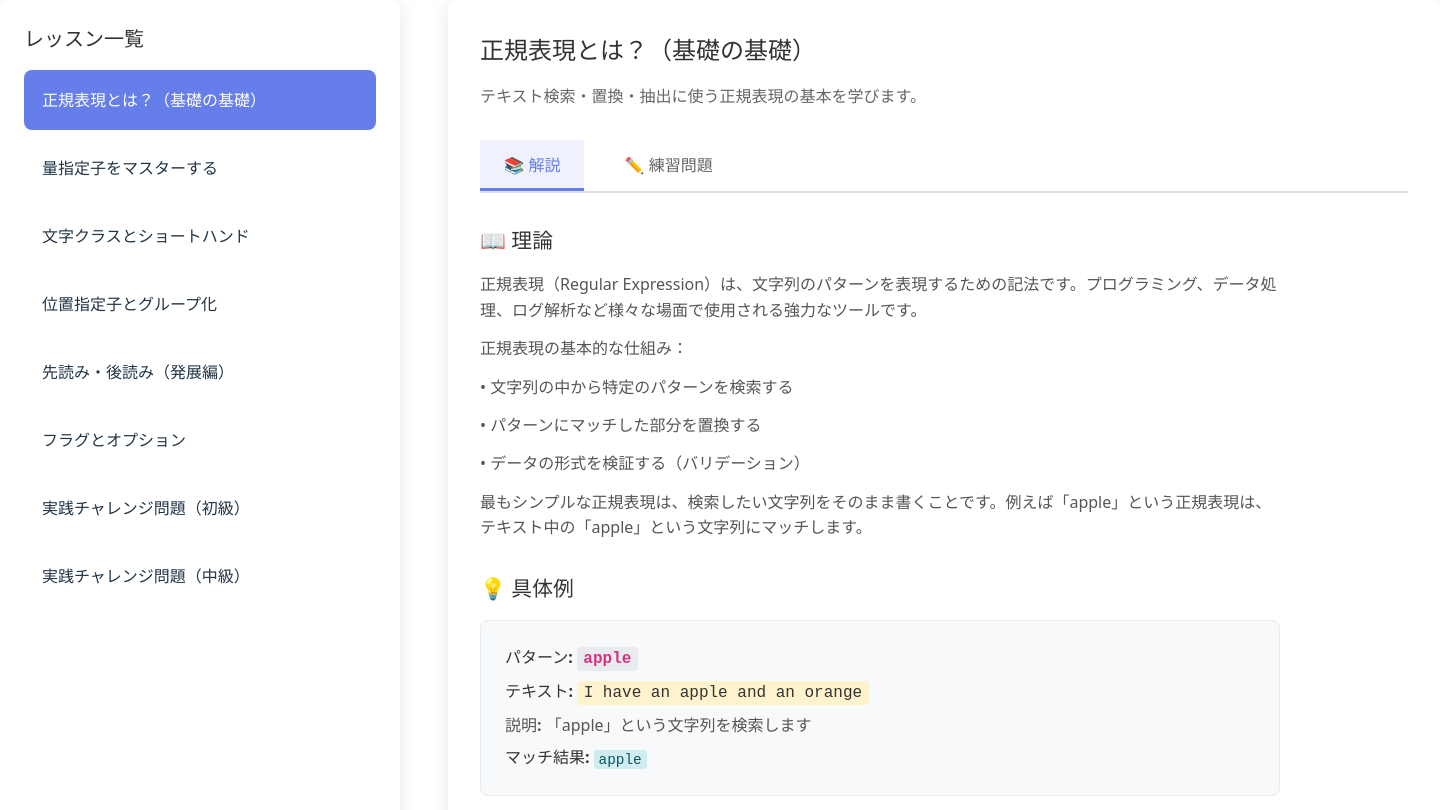
Test: LearningMode › 練習問題機能 › 正解時に正しいフィードバックが表示される
Click the button "✏️ 練習問題" at (669, 166), box [600,140,737,191]
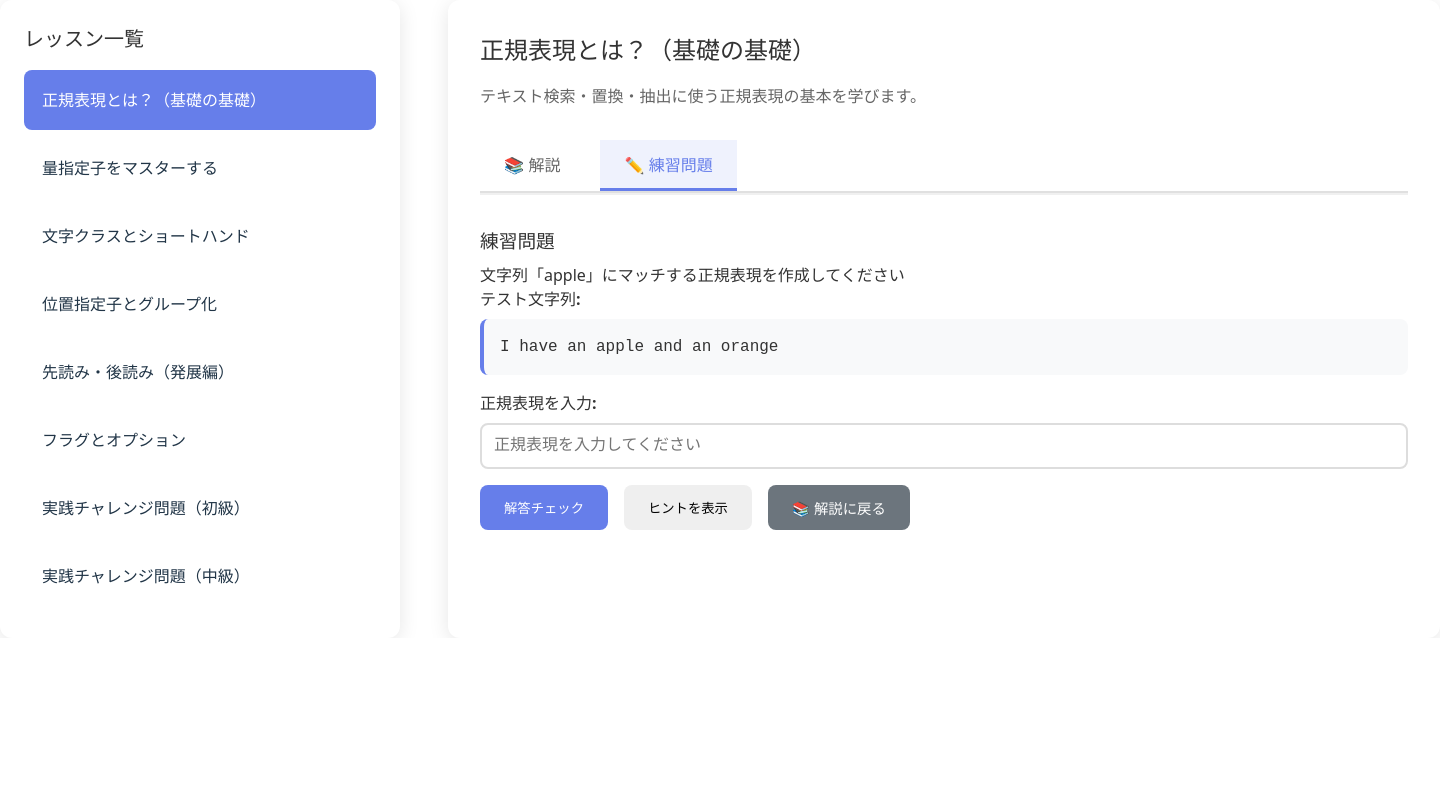
Type "apple" into the field with placeholder "正規表現を入力してください" at (944, 446), box [480,423,1408,469]
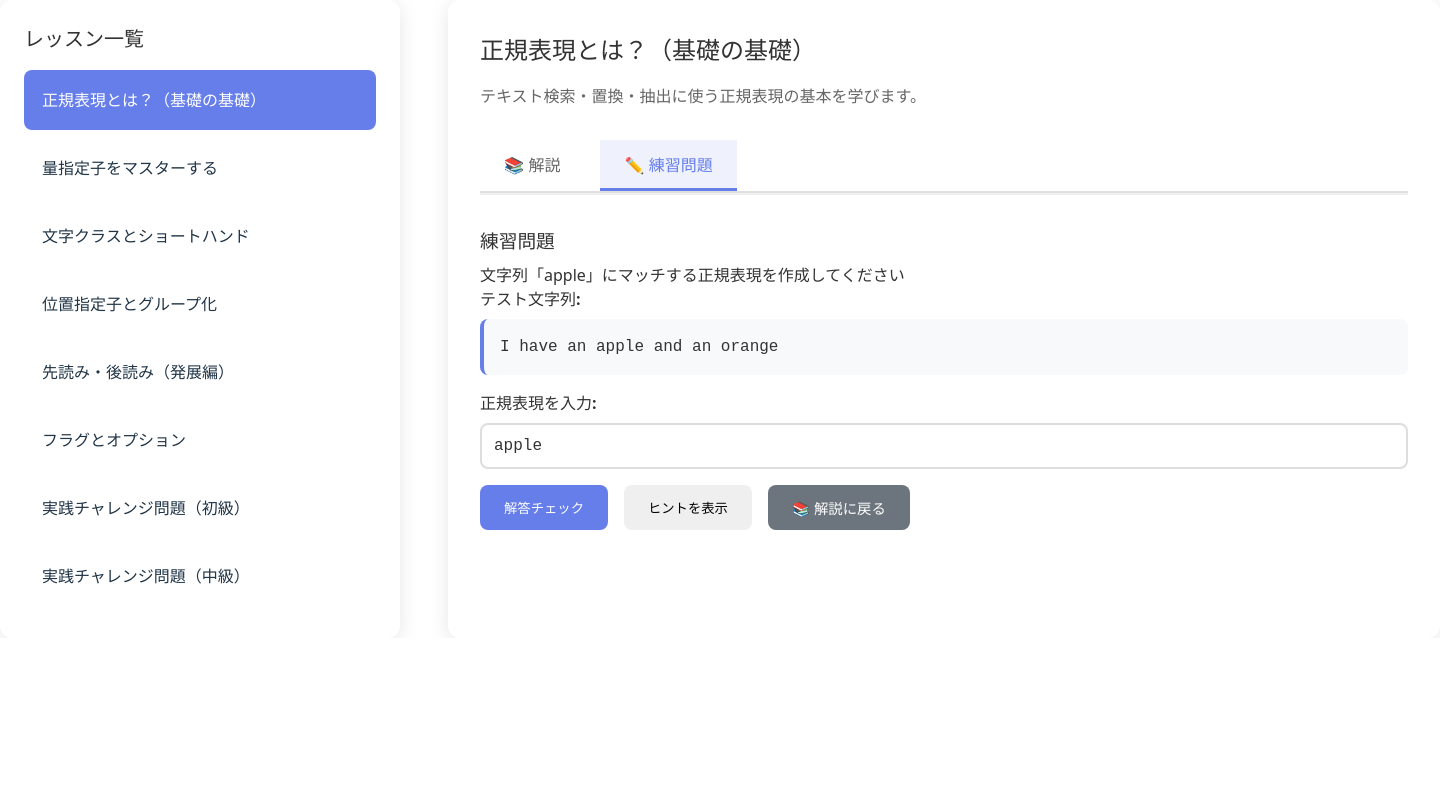
Click the button "解答チェック" at (544, 508), box [480,485,608,530]
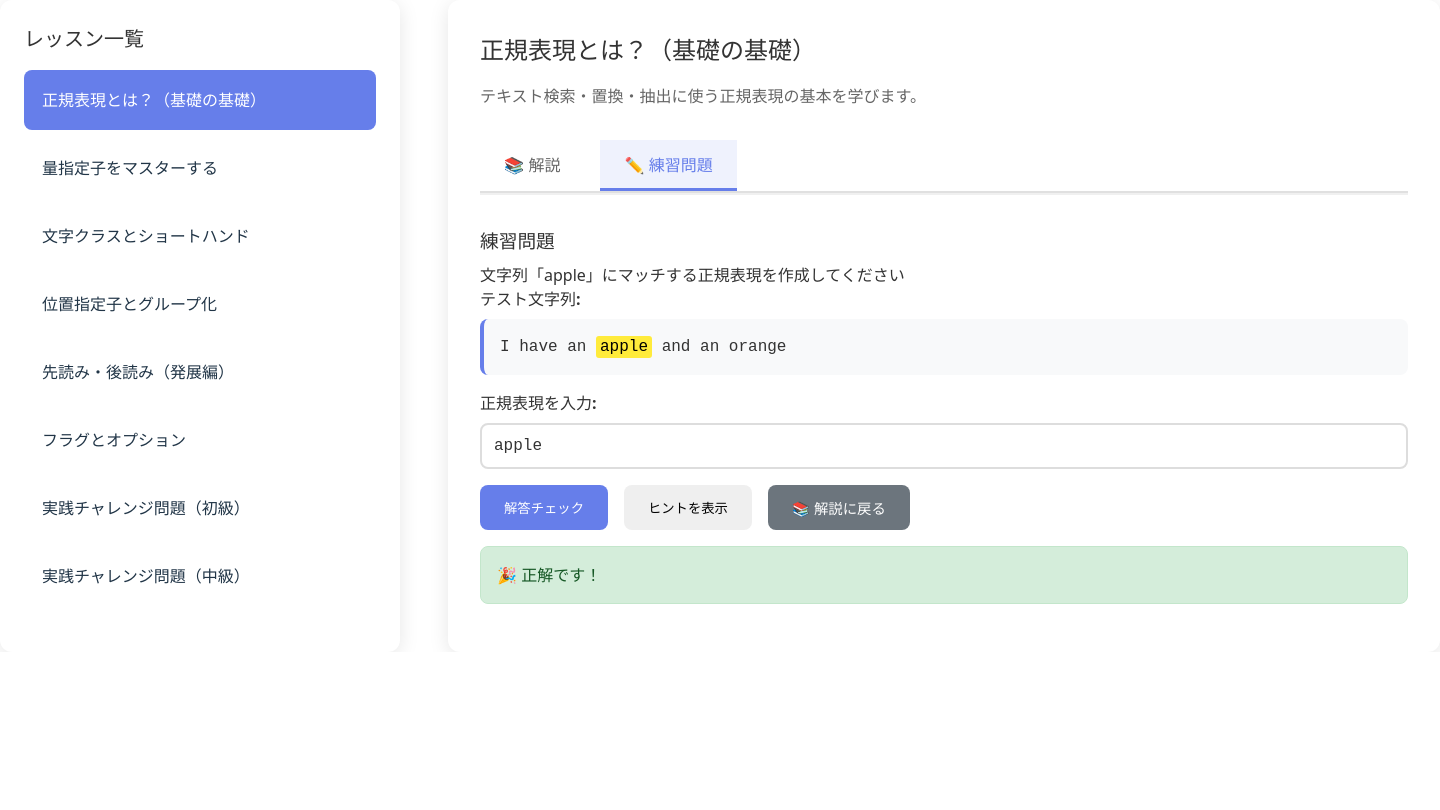
Expected: the text "🎉 正解です！" is shown, [480,546,1408,604]
